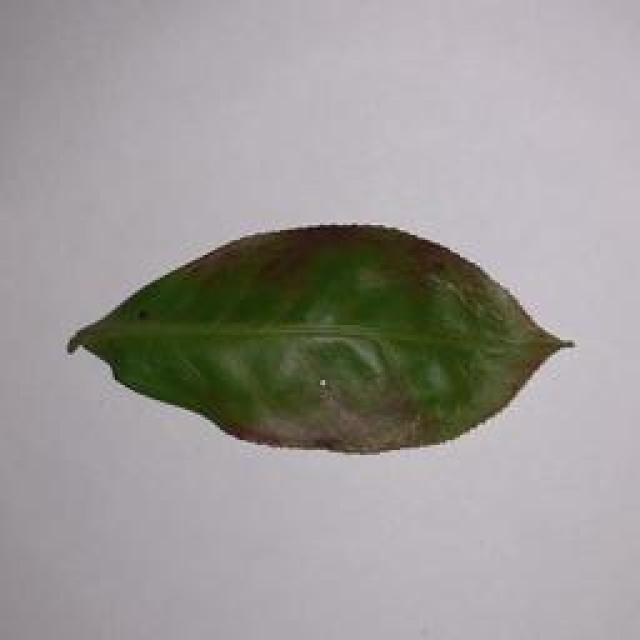Red Leaf Spot: (47, 212, 598, 479)
